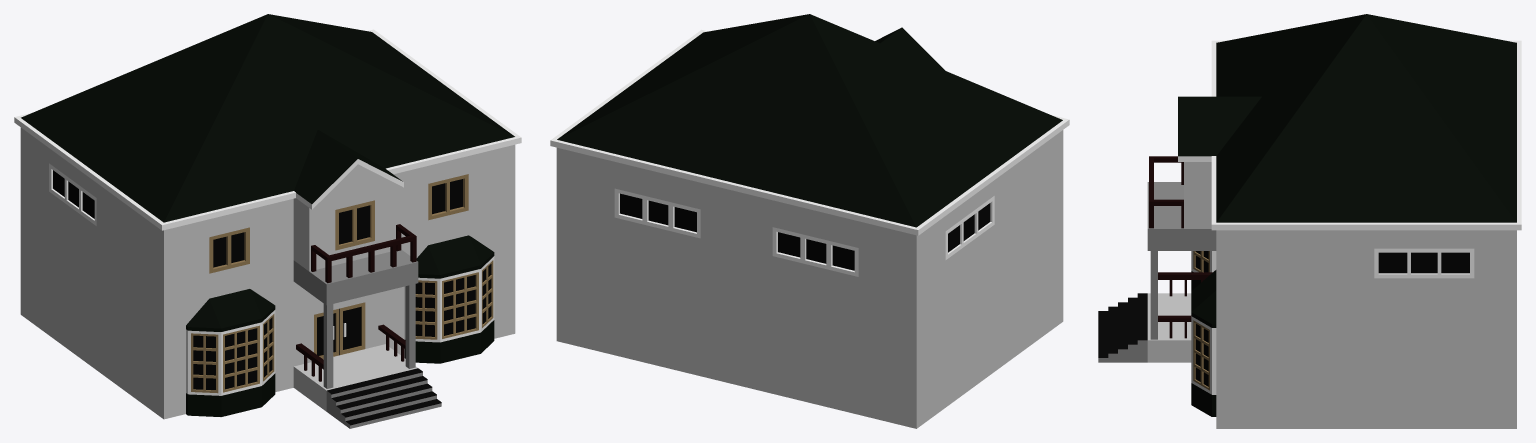
File: House-13.fbx
The picture shows the model from 3 angles, left to right: view 1: azimuth 30°, elevation 25°; view 2: azimuth 150°, elevation 25°; view 3: azimuth 270°, elevation 25°; orthographic projection. The views are drawn at different scales.
Parts seen in each view (by area): view 1: Cube; view 2: Cube; view 3: Cube.
Part boxes in pixels (x1,y1,x2,y2): Cube: (14, 14, 521, 428); Cube: (550, 14, 1069, 428); Cube: (1098, 14, 1521, 428).
Size of what is drawn, in the model's own units: 17.7 by 14.59 by 17.21.
